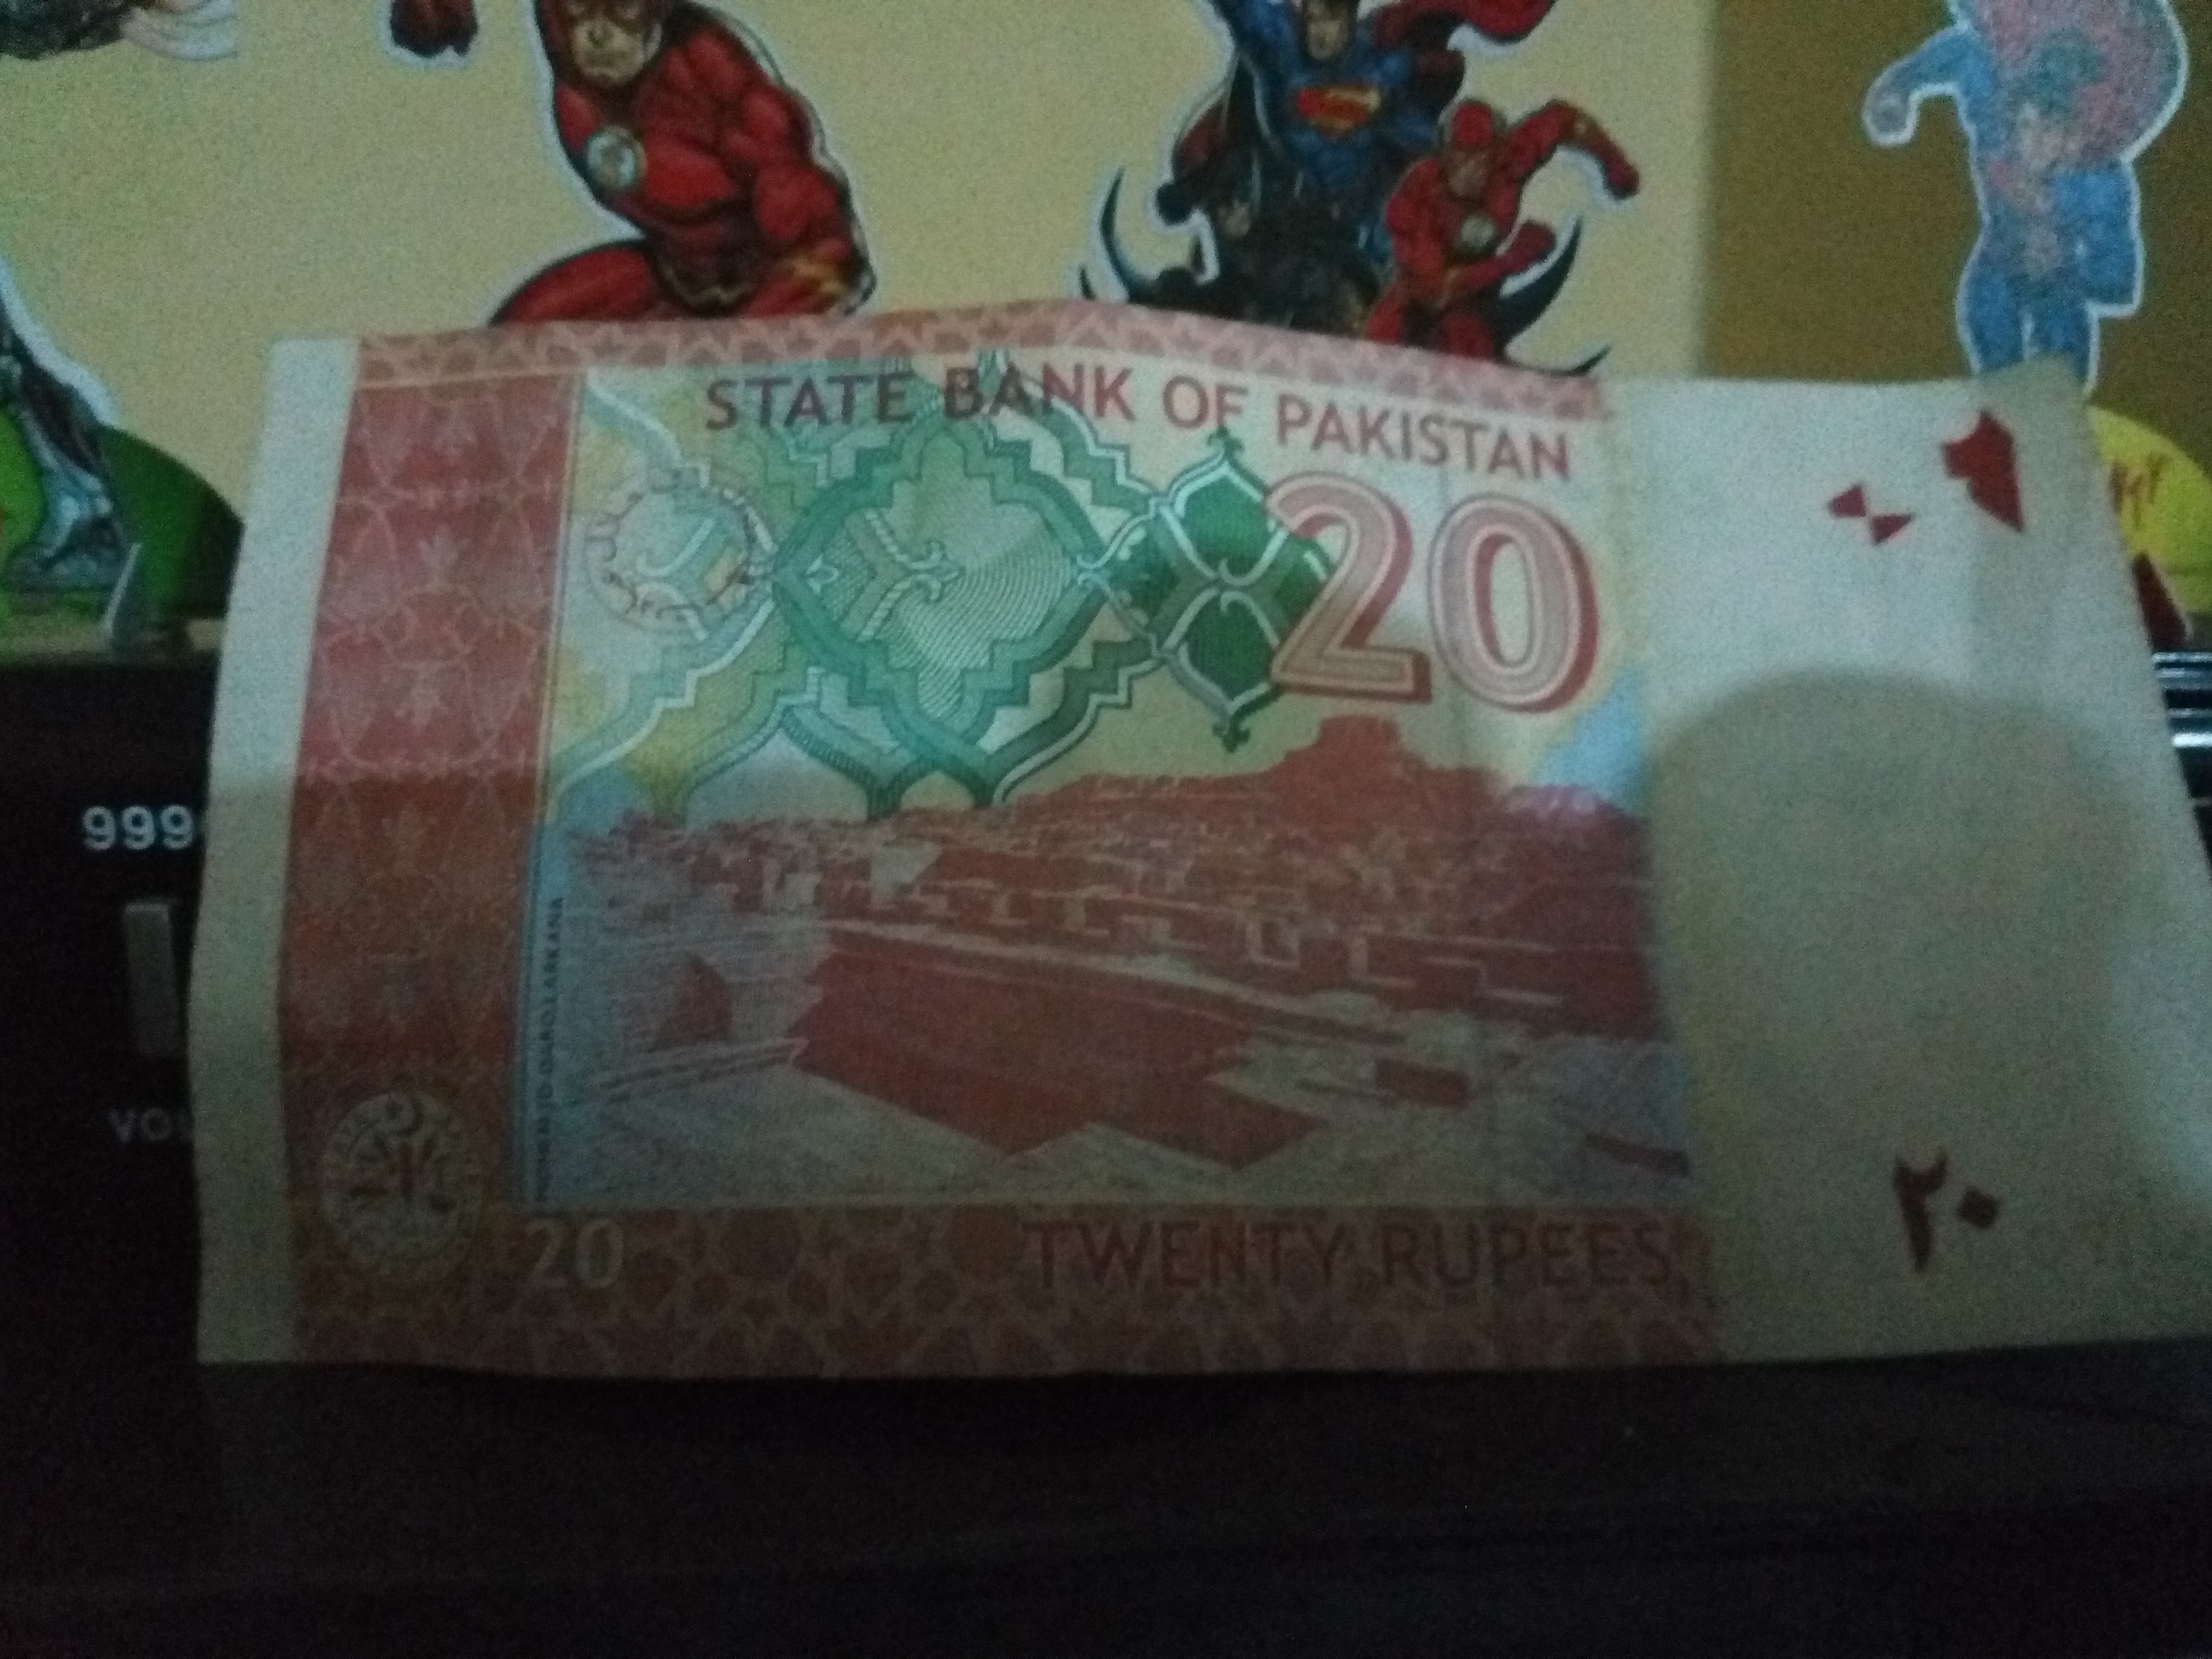20 rupee: (157, 247, 2186, 1511)
